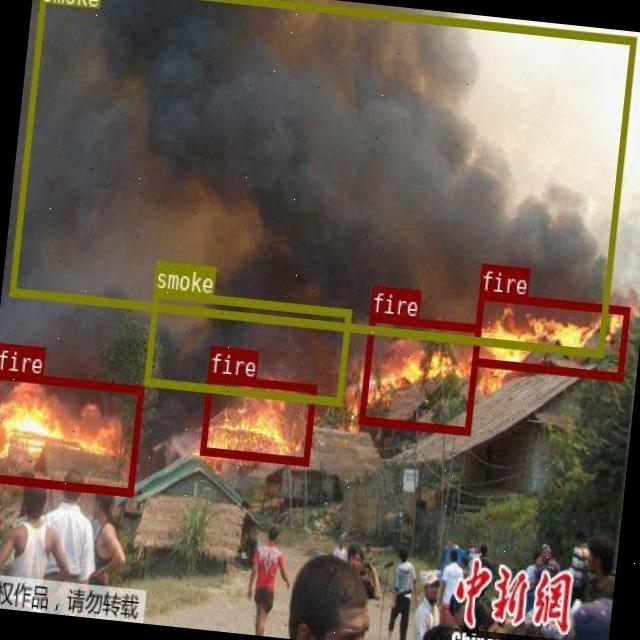fire: (0, 369, 142, 495), (358, 312, 480, 433), (471, 291, 629, 378), (198, 372, 316, 464)
smoke: (8, 0, 634, 357), (144, 288, 350, 404)
